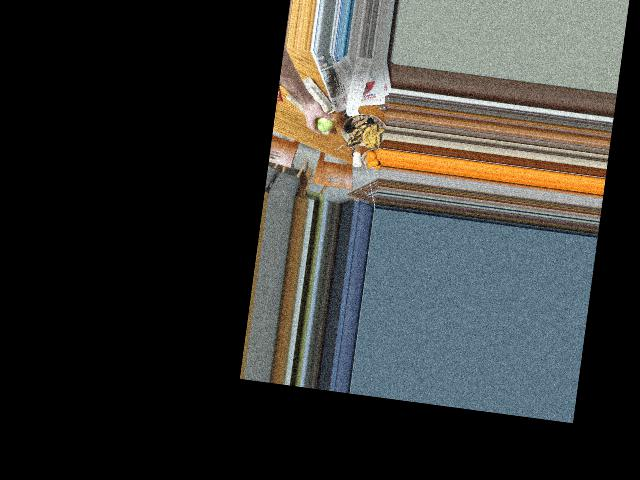apple: (310, 110, 335, 133)
